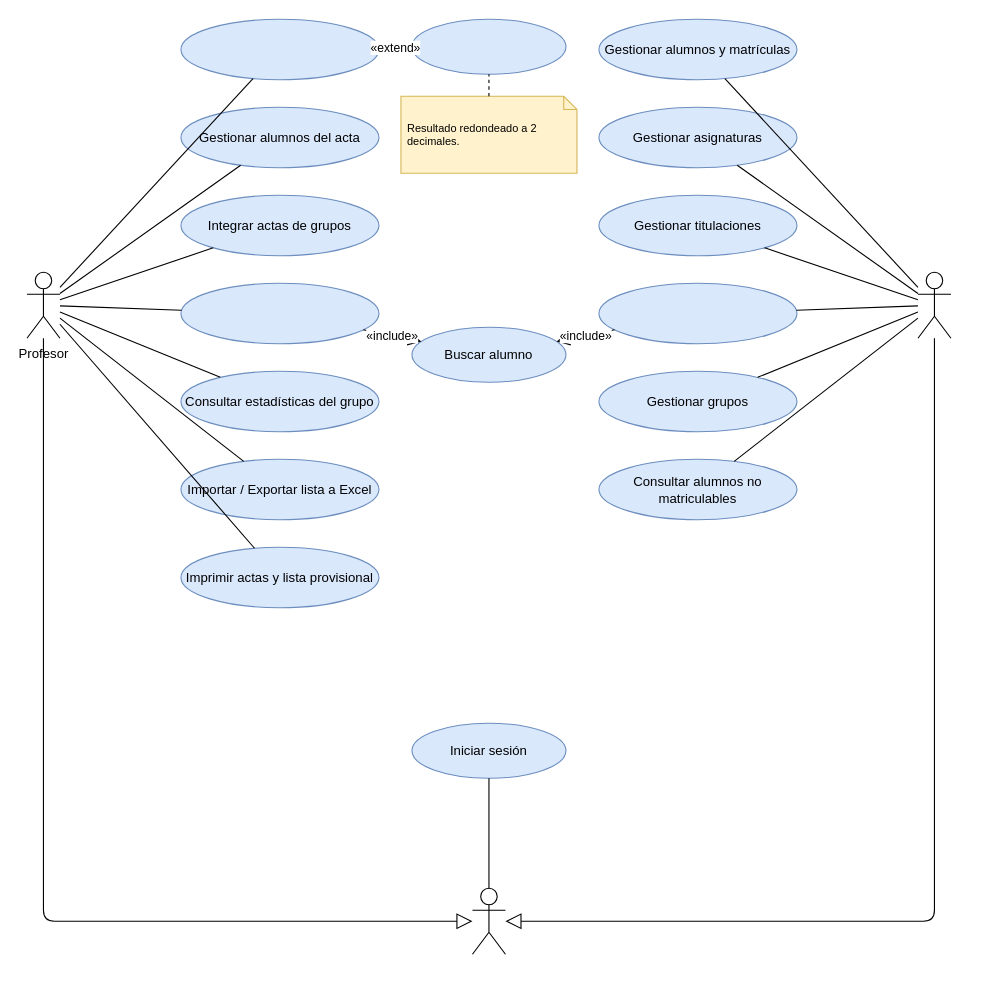
Image size: 994x997. Some labels were removed from this diagram. The shapes that lost their labels are listed below. From the top down, each one's centre as x and y in pixels, then its label:
At point (279, 49): "Completar acta con calificaciones".
At point (488, 46): "Usar calculadora".
At point (279, 313): "Consultar datos de alumno".
At point (697, 313): "Consultar historial académico".
At point (934, 304): "Administrador".
At point (488, 920): "Usuario".
